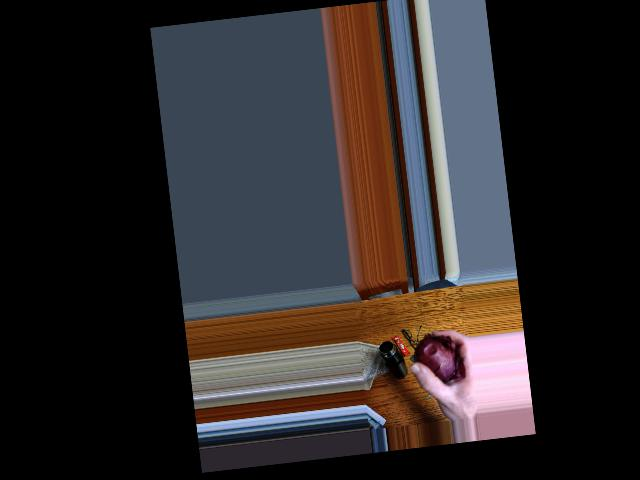onion: (412, 334, 461, 386)
